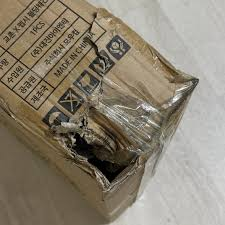damaged package: (43, 110, 156, 197), (145, 49, 202, 137), (84, 7, 125, 102)
